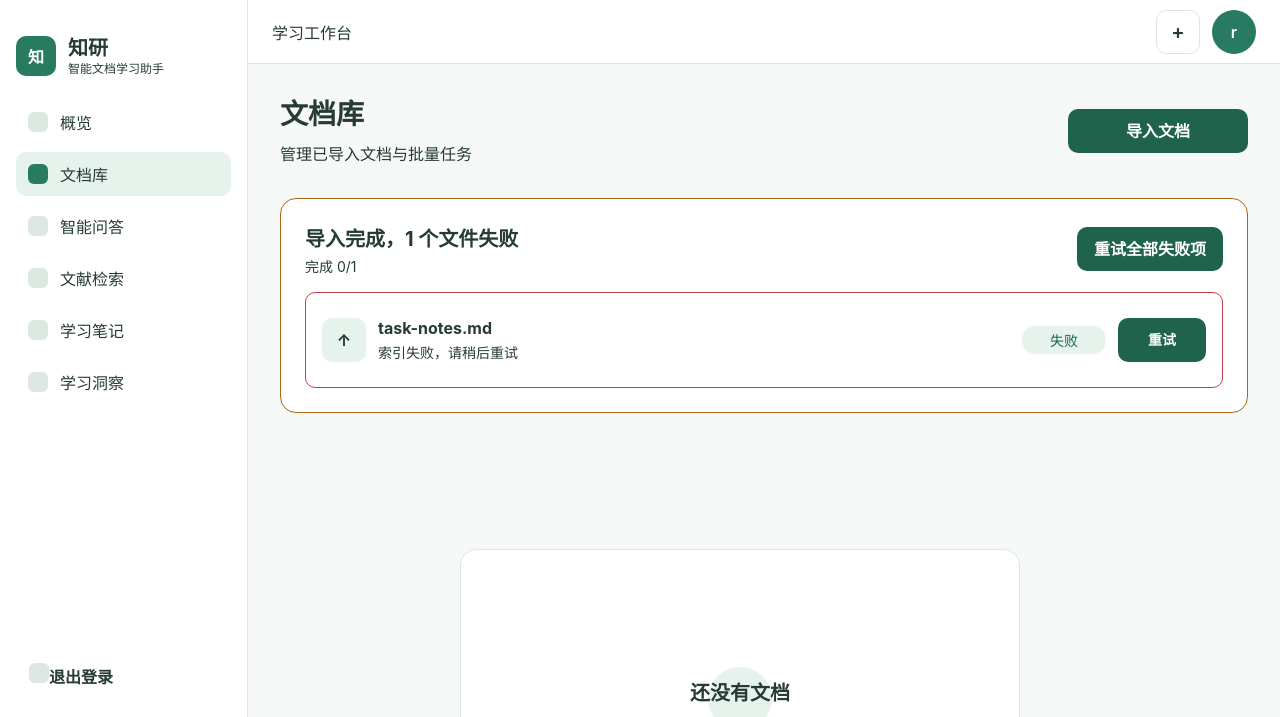
Test: DocumentsPage › shows safe action errors without exposing stable error codes
The width and height of the screenshot is (1280, 717).
Click the button with aria-label "重试 task-notes.md". click: (1162,340)
box: [1118, 318, 1206, 362]
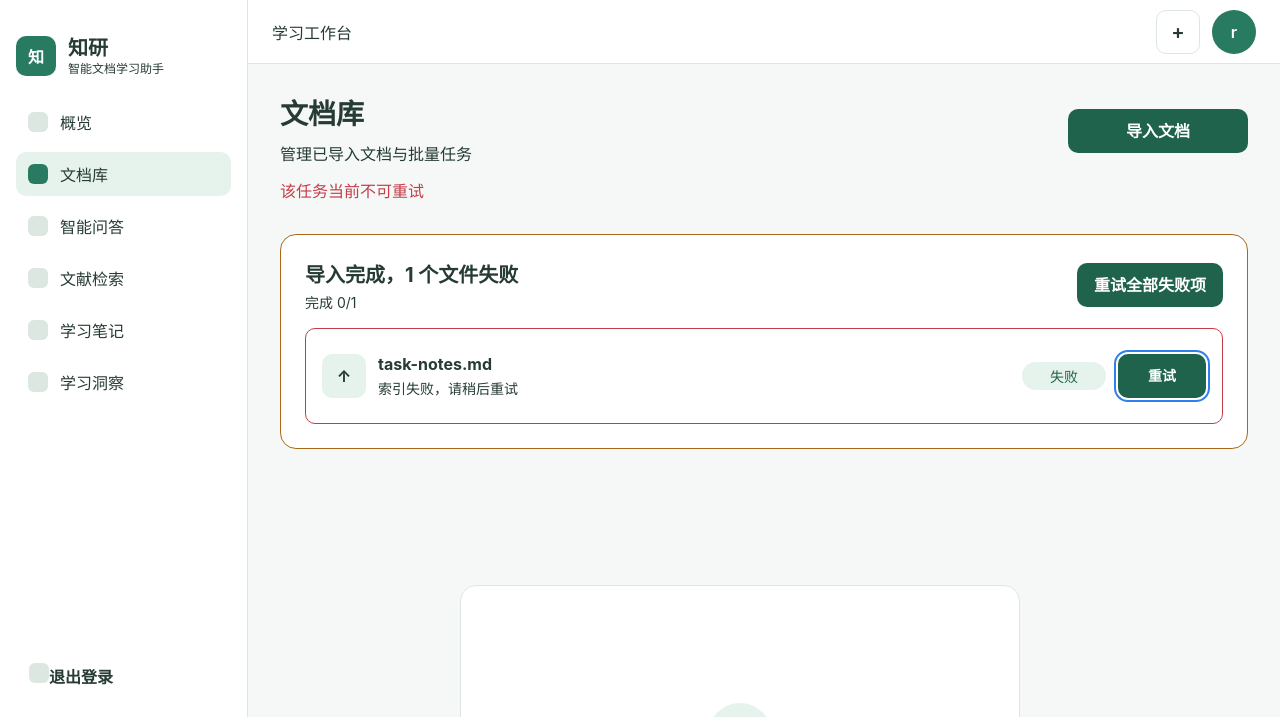
Expected: the message reads "该任务当前不可重试", [280, 181, 424, 201]
